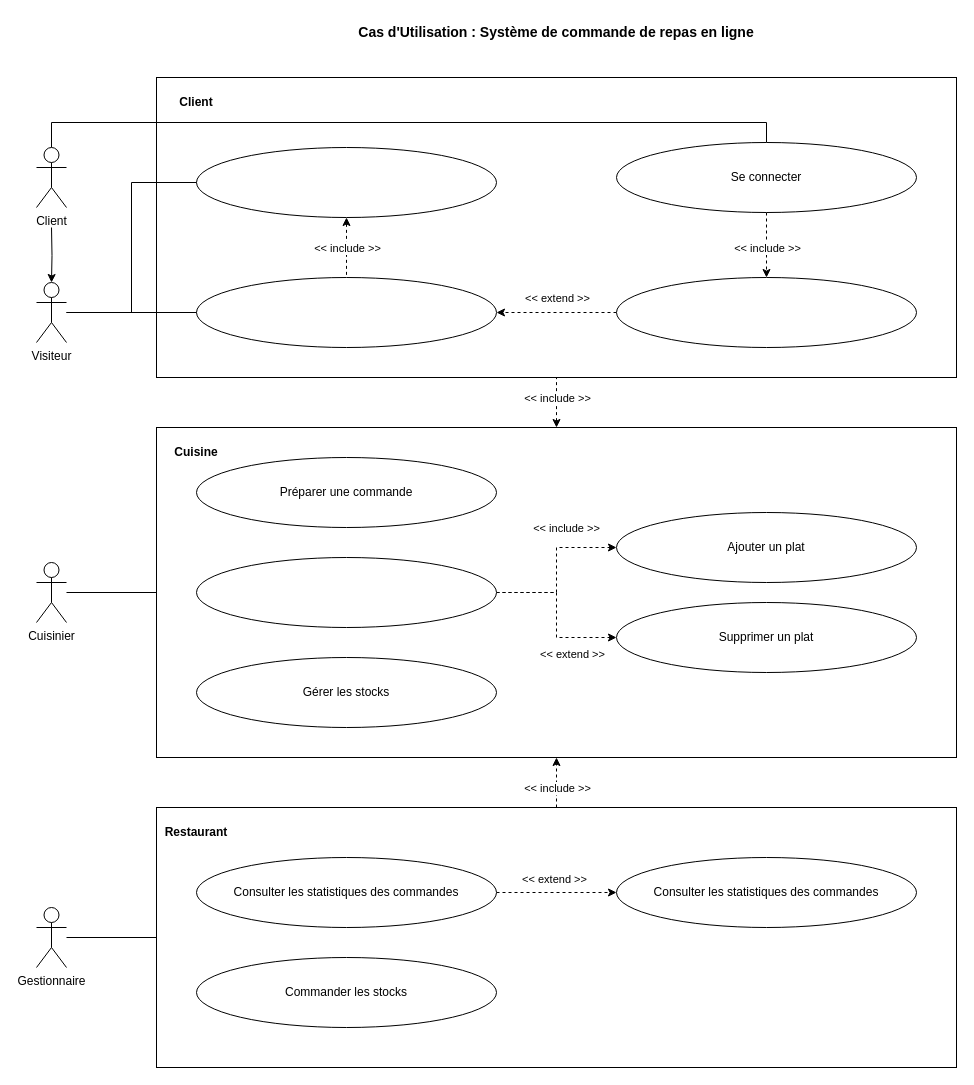
The diagram is 974 pixels wide and 1085 high, and some of its shapes have lost their labels. The centre of each missing label's shape, as x and y in pixels:
"Consulter le menu" belongs at (346,182).
"Gérer le menu" belongs at (346,592).
"Passer une commande" belongs at (346,312).
"S'inscrire" belongs at (766,312).
